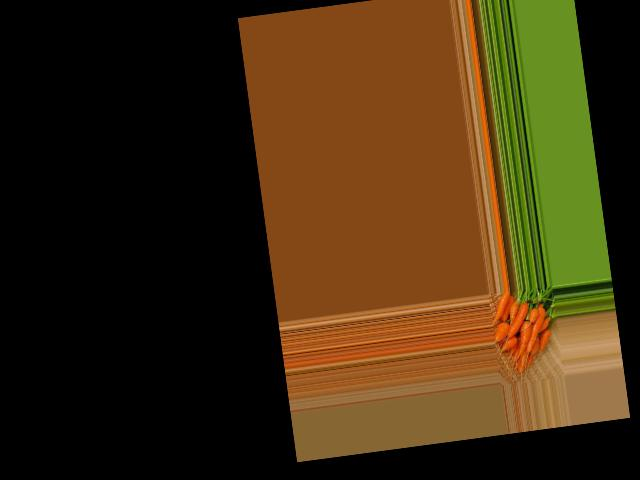carrot: (537, 319, 554, 335)
